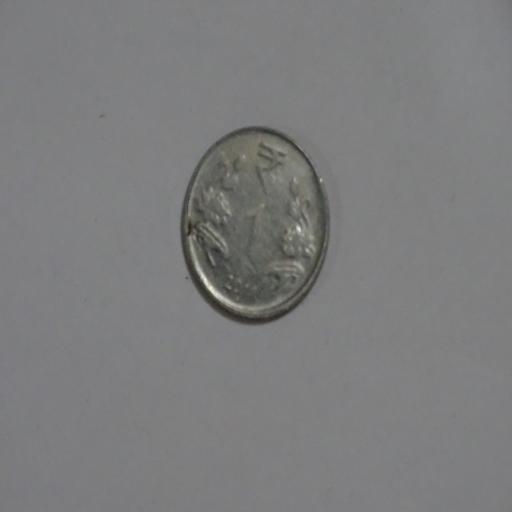rupee1: (181, 123, 330, 327)
